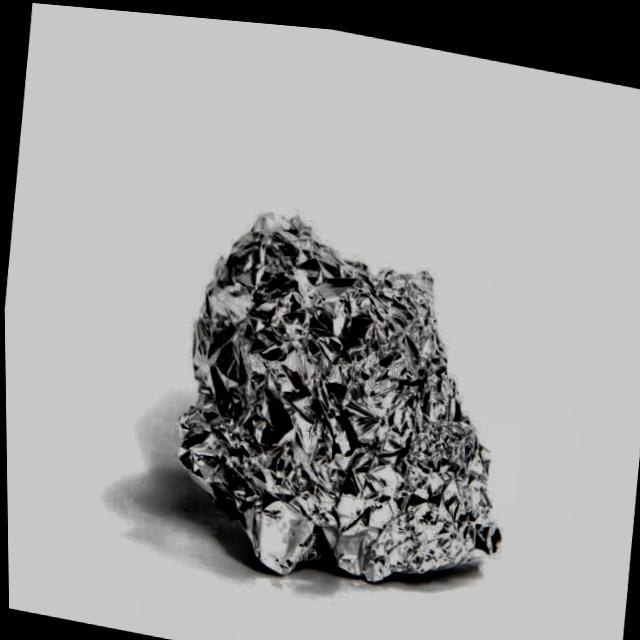Foil: (148, 172, 533, 615)
